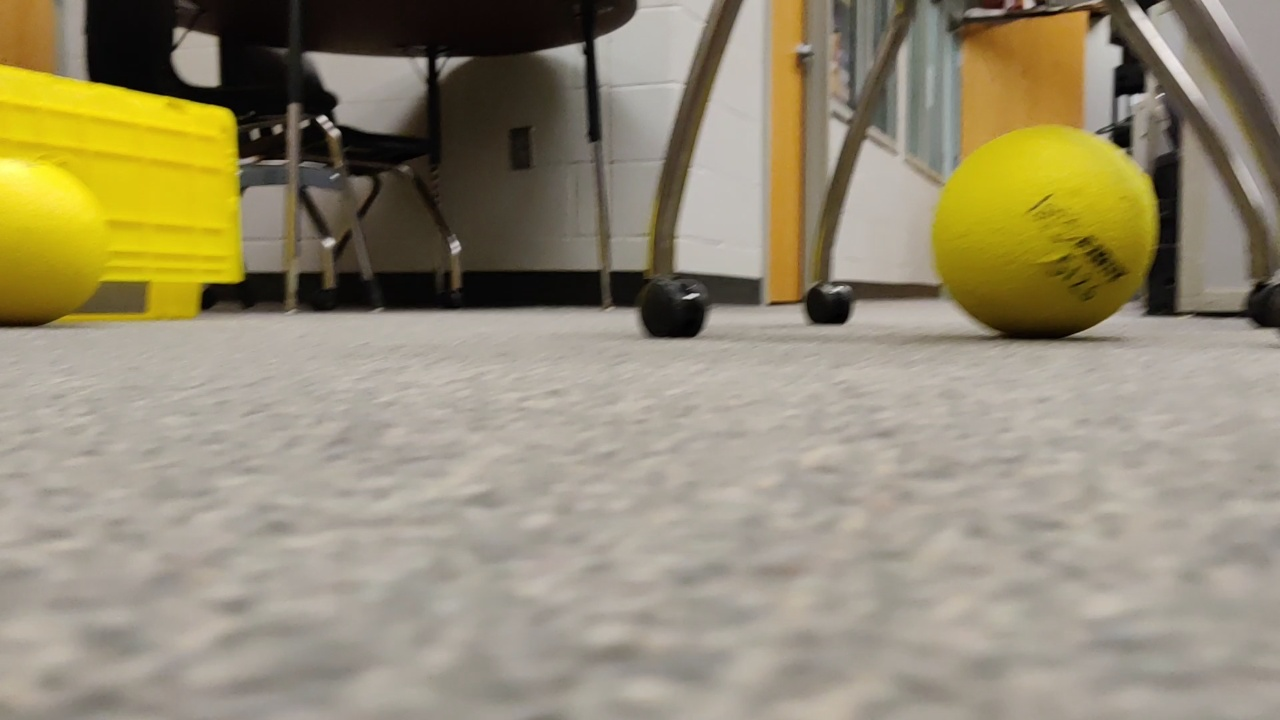Ball: (921, 120, 1180, 352), (1, 157, 104, 320)
